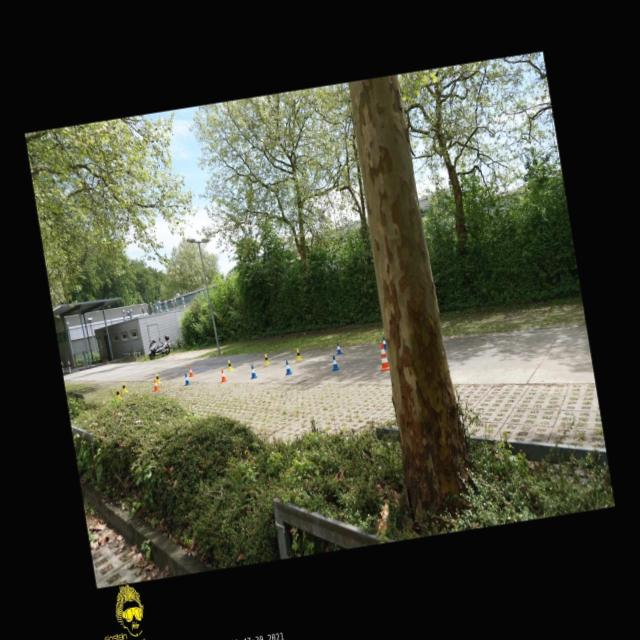blue_cone: (330, 355, 340, 370), (248, 364, 258, 379), (284, 360, 292, 374), (335, 343, 343, 355), (183, 374, 190, 386), (382, 336, 387, 349)
large_orange_cone: (377, 342, 390, 372)
orange_cone: (219, 368, 227, 382), (152, 379, 159, 392), (188, 366, 195, 377)
yellow_cone: (294, 348, 302, 362), (262, 354, 270, 366), (120, 381, 128, 393), (226, 359, 233, 372), (115, 388, 122, 399), (154, 372, 160, 383)
